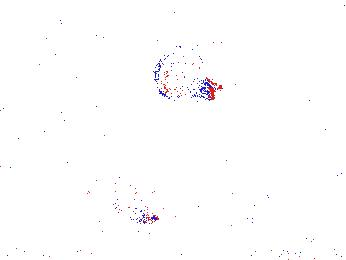flame jellyfish: (83, 168, 160, 226), (217, 167, 291, 221), (151, 49, 222, 102)
